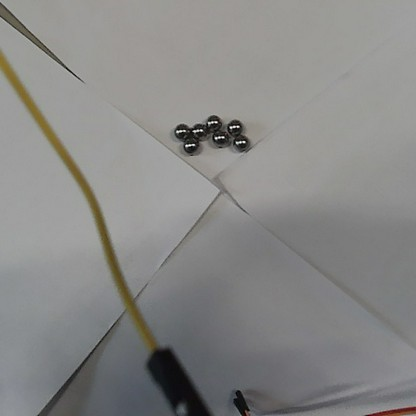ironball: (206, 112, 221, 131), (190, 122, 205, 139), (182, 136, 197, 152), (227, 118, 242, 134), (173, 123, 188, 138), (233, 135, 247, 150), (213, 130, 226, 145)
